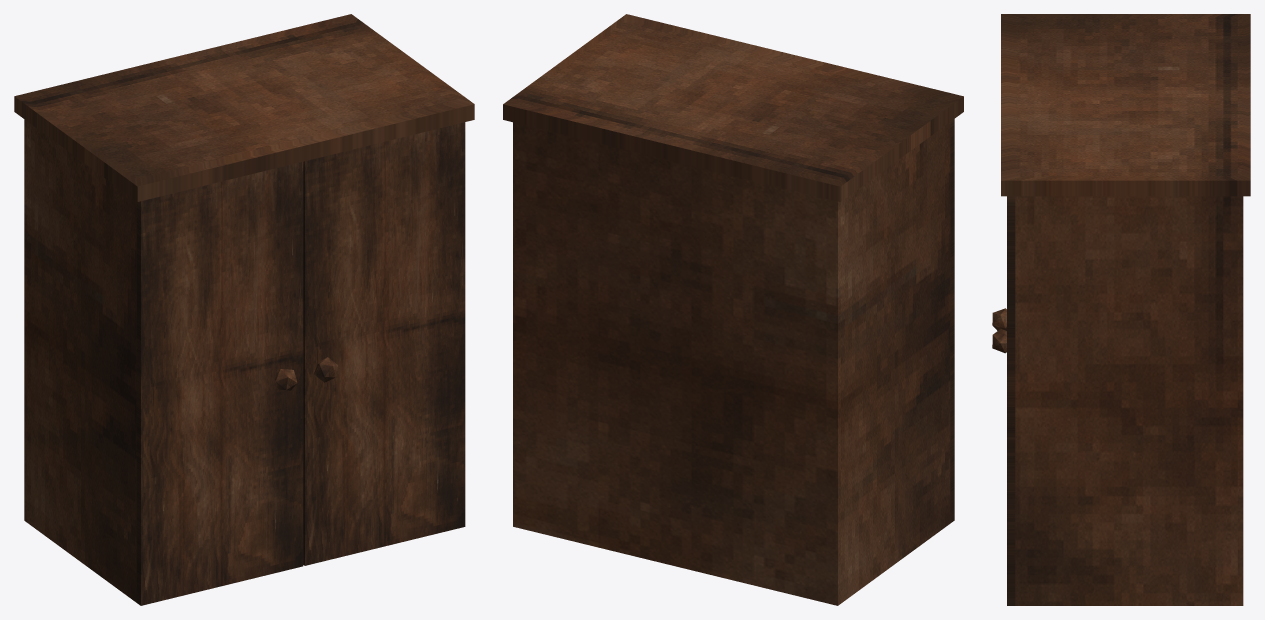
The model's file is cabinet.glb.
The picture shows the model from 3 angles, left to right: view 1: azimuth 30°, elevation 25°; view 2: azimuth 150°, elevation 25°; view 3: azimuth 270°, elevation 25°; orthographic projection.
Parts seen in each view (by area): view 1: env_cabinet, env_cabinet_door_left, env_cabinet_door_right; view 2: env_cabinet, env_cabinet_door_left; view 3: env_cabinet, env_cabinet_door_right.
Boxes of the visible parts, bbox=[...] form: env_cabinet: bbox=[14, 14, 474, 602]; env_cabinet_door_left: bbox=[136, 162, 303, 605]; env_cabinet_door_right: bbox=[303, 122, 465, 565]; env_cabinet: bbox=[503, 14, 963, 605]; env_cabinet_door_left: bbox=[950, 119, 954, 523]; env_cabinet: bbox=[1001, 14, 1250, 605]; env_cabinet_door_right: bbox=[992, 196, 1015, 605].
Size of the model in its own units: 2.08 by 2.49 by 1.36.
2 materials, 2 textured.
